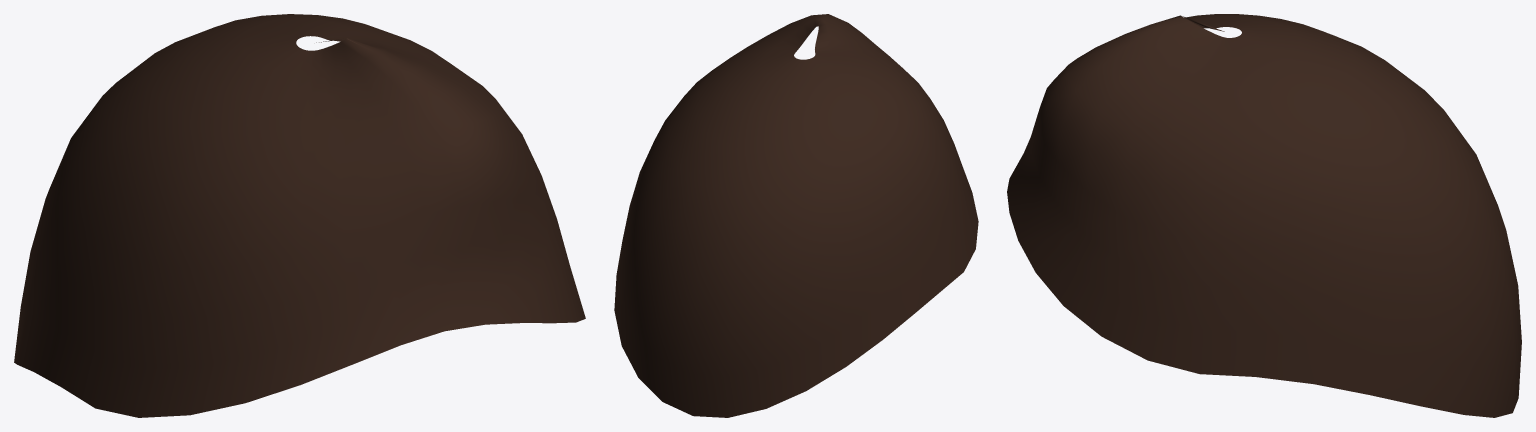
Rendered from side-part.glb.
3 views of the same model, side by side, from view 1: azimuth 30°, elevation 25°; view 2: azimuth 150°, elevation 25°; view 3: azimuth 270°, elevation 25° (orthographic). The views are drawn at different scales.
Parts seen in each view (by area): view 1: hair-side-part; view 2: hair-side-part; view 3: hair-side-part.
Boxes of the visible parts, left/top/right/bottom form: hair-side-part: left=14, top=14, right=585, bottom=417; hair-side-part: left=614, top=14, right=978, bottom=417; hair-side-part: left=1007, top=14, right=1521, bottom=417.
Bounding box in the file's own units: 0.1642 × 0.1548 × 0.1876.
